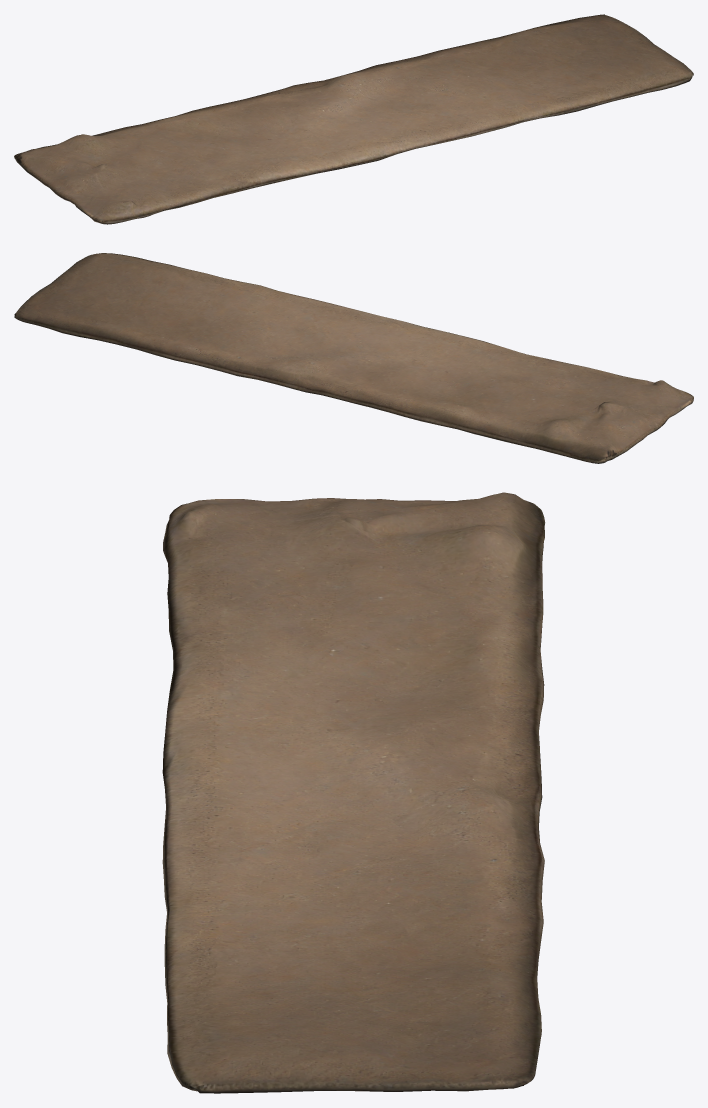
The model's file is Dirt_path_Make_it_pad_0306094146_texture.fbx.
3 views of the same model, one above another, from view 1: azimuth 30°, elevation 25°; view 2: azimuth 150°, elevation 25°; view 3: azimuth 270°, elevation 25° (orthographic). The views are drawn at different scales.
Visible parts, largest first — view 1: Mesh1_Mesh1.012; view 2: Mesh1_Mesh1.012; view 3: Mesh1_Mesh1.012.
Boxes of the visible parts, x1,y1,x2,y2 form: Mesh1_Mesh1.012: [14, 14, 693, 224]; Mesh1_Mesh1.012: [14, 253, 693, 463]; Mesh1_Mesh1.012: [162, 492, 545, 1093].
Bounding box in the file's own units: 200 × 6.03 × 54.77.
Materials: 1 (1 with a texture image).
